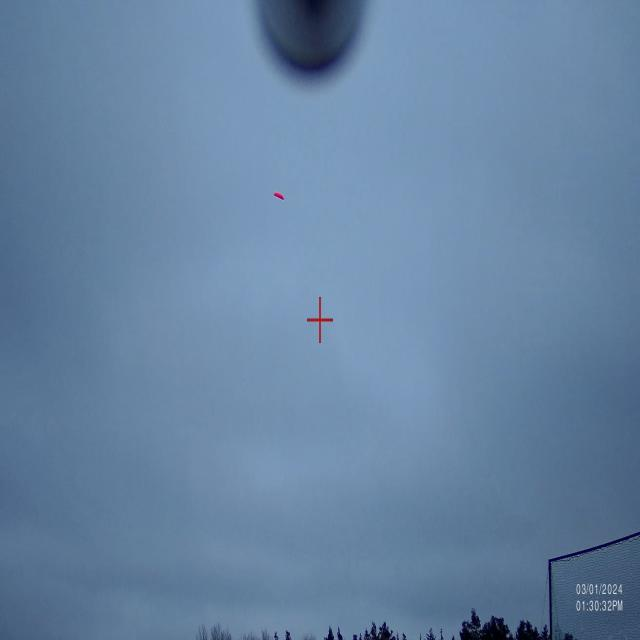entire: (268, 184, 288, 202)
